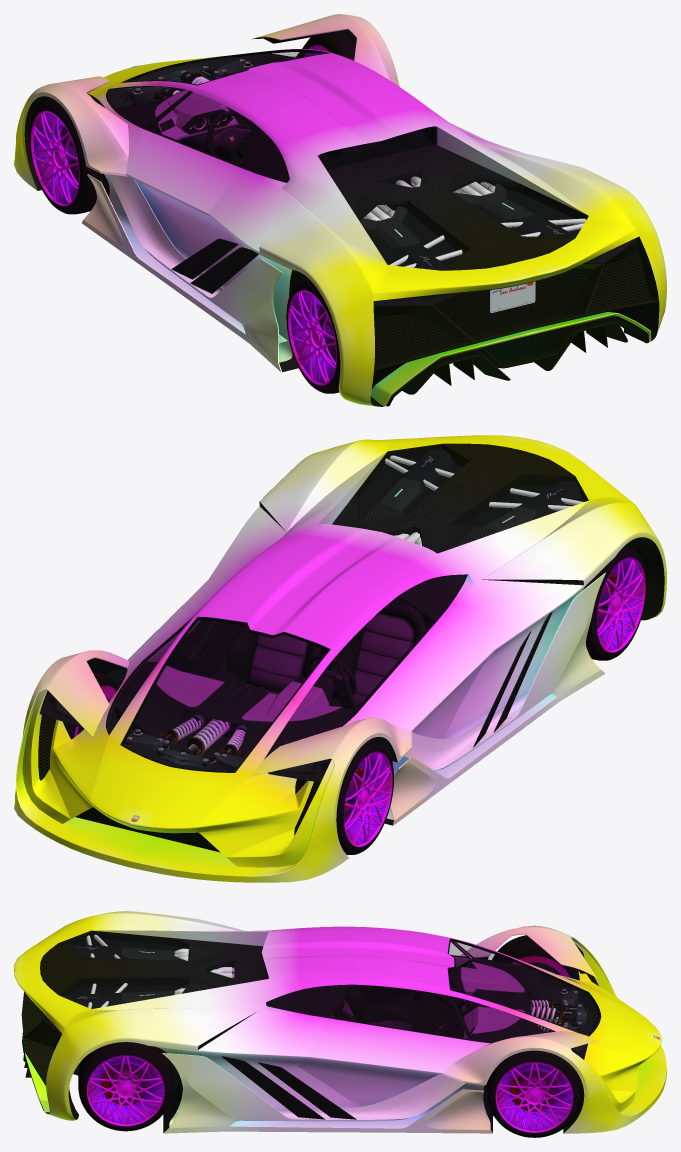
Rendered from tezeract.glb.
3 views of the same model, one above another, from view 1: azimuth 30°, elevation 25°; view 2: azimuth 150°, elevation 25°; view 3: azimuth 270°, elevation 25° (orthographic). The views are drawn at different scales.
Parts seen in each view (by area): view 1: bodyshell, chassis, door_dside_f, wheel_lf, wheel_lr, window_lf, misc_i, misc_j, misc_d, windscreen, window_lr, door_pside_f (+4 smaller); view 2: bodyshell, chassis, windscreen, door_dside_f, door_pside_f, window_lf, wheel_lf, wheel_lr, misc_j, misc_i, window_lr, misc_p (+3 smaller); view 3: bodyshell, chassis, door_pside_f, wheel_rr, windscreen, wheel_rf, window_rf, door_dside_f, misc_j, misc_i, window_rr, wheel_lf (+2 smaller).
Boxes of the visible parts, left/top/right/bottom form: bodyshell: left=14, top=14, right=666, bottom=406; chassis: left=108, top=55, right=636, bottom=312; door_dside_f: left=126, top=72, right=298, bottom=251; wheel_lf: left=29, top=93, right=109, bottom=214; wheel_lr: left=286, top=278, right=340, bottom=393; window_lf: left=145, top=92, right=251, bottom=167; misc_i: left=361, top=205, right=465, bottom=269; misc_j: left=453, top=181, right=585, bottom=237; misc_d: left=402, top=320, right=627, bottom=394; windscreen: left=125, top=50, right=323, bottom=83; window_lr: left=106, top=86, right=187, bottom=127; door_pside_f: left=291, top=53, right=483, bottom=139; bodyshell: left=14, top=435, right=666, bottom=882; chassis: left=39, top=449, right=584, bottom=821; windscreen: left=123, top=618, right=326, bottom=770; door_dside_f: left=291, top=576, right=494, bottom=735; door_pside_f: left=127, top=558, right=298, bottom=677; window_lf: left=337, top=596, right=434, bottom=710; wheel_lf: left=302, top=739, right=393, bottom=854; wheel_lr: left=583, top=545, right=646, bottom=660; misc_j: left=358, top=448, right=465, bottom=512; misc_i: left=456, top=478, right=585, bottom=530; window_lr: left=266, top=658, right=355, bottom=756; misc_p: left=124, top=714, right=245, bottom=771; bodyshell: left=14, top=911, right=666, bottom=1133; chassis: left=36, top=934, right=659, bottom=1059; door_pside_f: left=297, top=958, right=472, bottom=1100; wheel_rr: left=78, top=1042, right=173, bottom=1131; windscreen: left=449, top=940, right=599, bottom=1034; wheel_rf: left=487, top=1050, right=582, bottom=1137; window_rf: left=331, top=985, right=471, bottom=1040; door_dside_f: left=352, top=926, right=472, bottom=1007; misc_j: left=63, top=981, right=187, bottom=1008; misc_i: left=63, top=934, right=187, bottom=960; window_rr: left=454, top=997, right=553, bottom=1042; wheel_lf: left=492, top=935, right=579, bottom=980.
Bounding box in the file's own units: 2.19 × 1.05 × 4.76.
27 materials, 27 textured.
